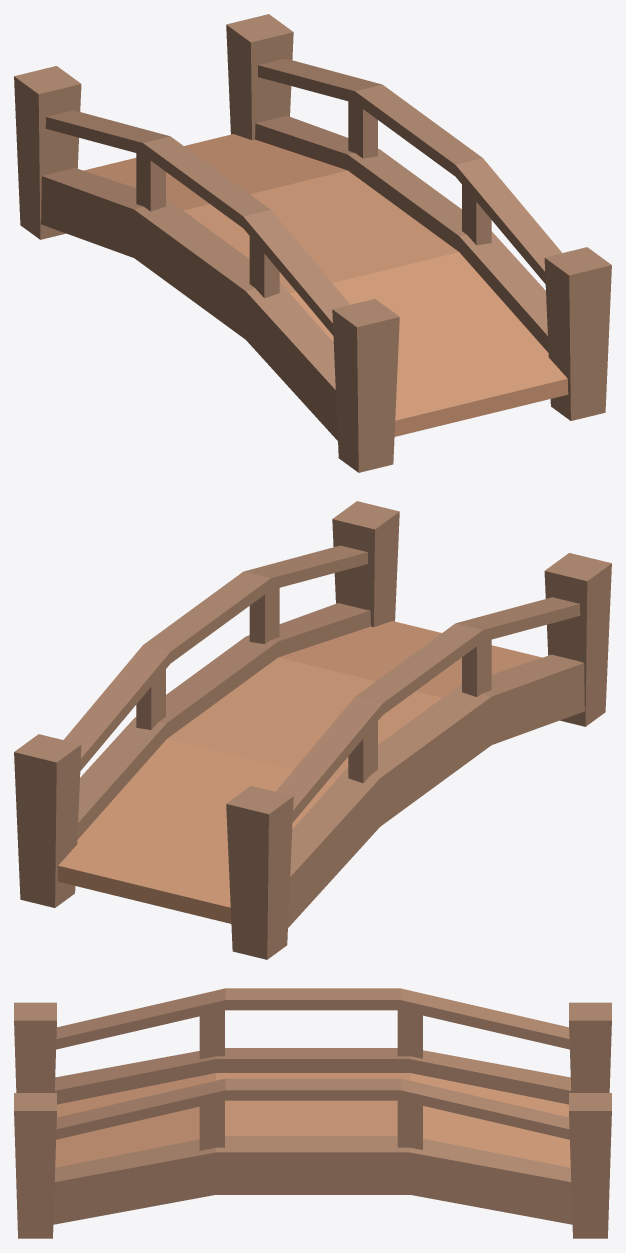
Rendered from bridge.fbx.
3 views of the same model, one above another, from view 1: azimuth 30°, elevation 25°; view 2: azimuth 150°, elevation 25°; view 3: azimuth 270°, elevation 25° (orthographic). The views are drawn at different scales.
Visible parts, largest first — view 1: bridge_3b_1; view 2: bridge_3b_1; view 3: bridge_3b_1.
Boxes of the visible parts, x1,y1,x2,y2 form: bridge_3b_1: (14,14,611,472); bridge_3b_1: (14,501,611,959); bridge_3b_1: (14,988,611,1238).
Bounding box in the file's own units: 9.02 × 5.69 × 21.01.
